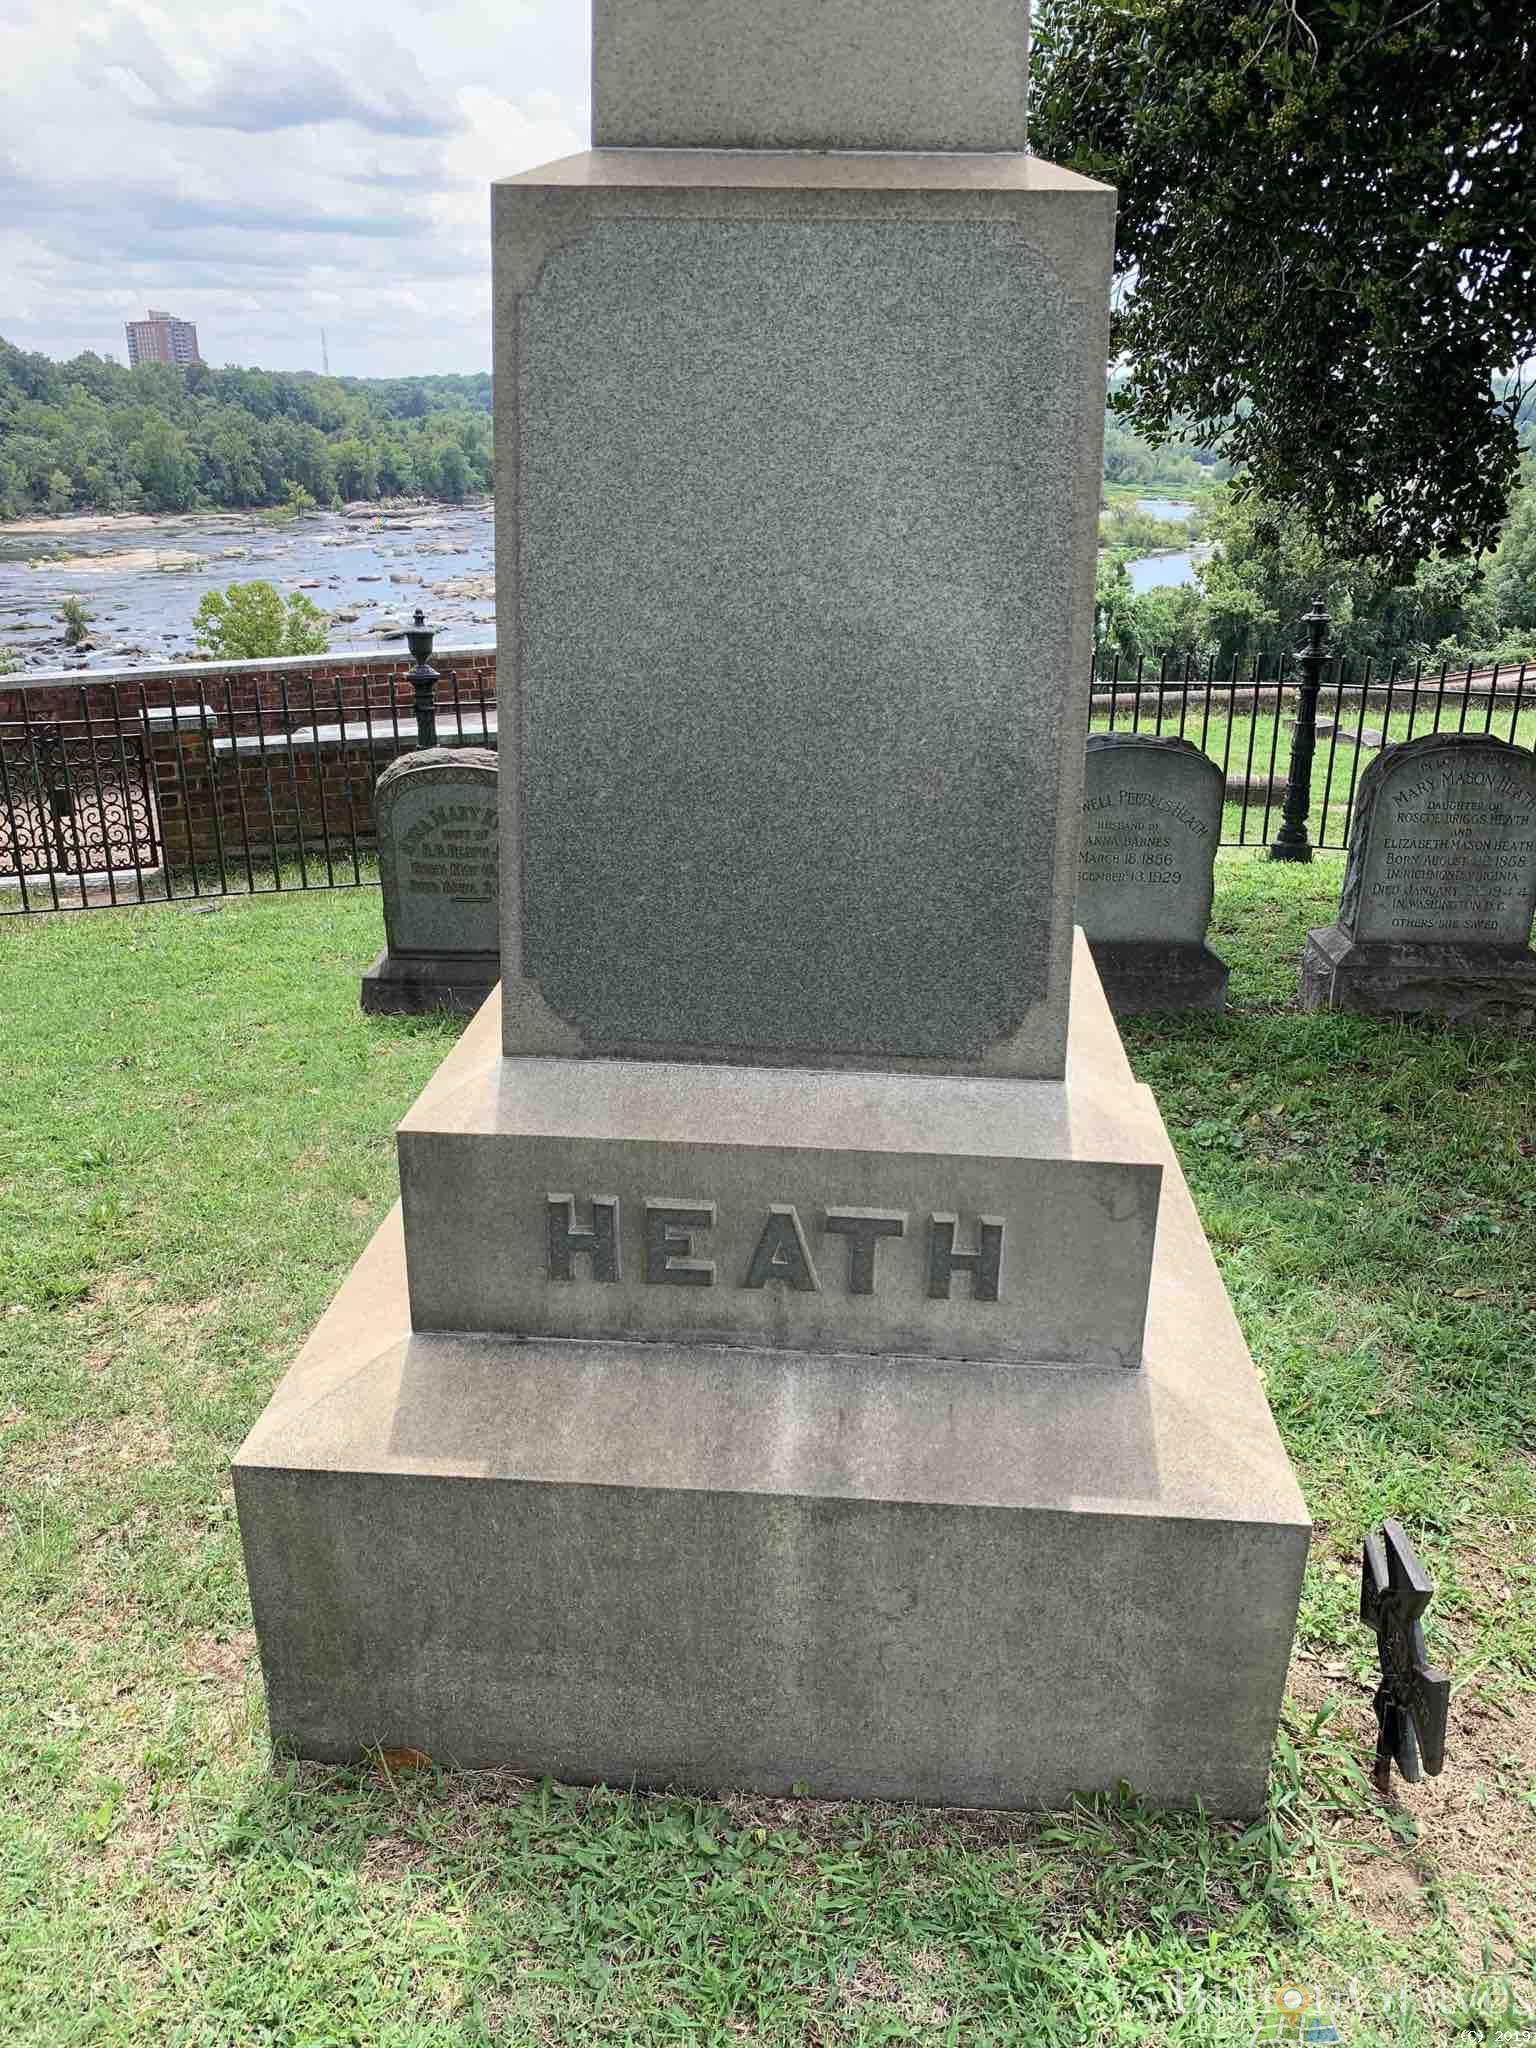obelisk: (449, 0, 1154, 1363)
